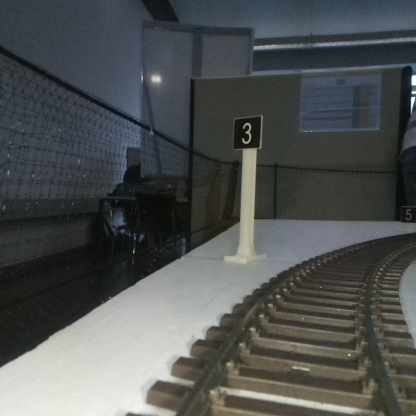black-info-3: (233, 118, 260, 263)
